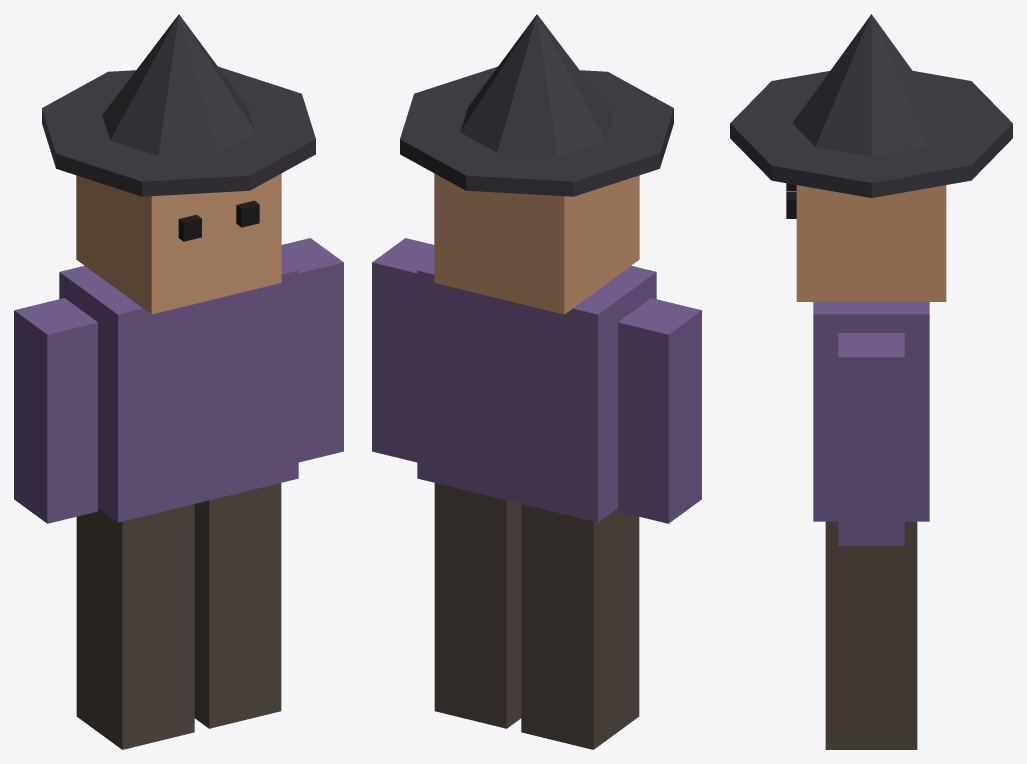
File: surveyor.obj
3 views of the same model, side by side, from view 1: azimuth 30°, elevation 25°; view 2: azimuth 150°, elevation 25°; view 3: azimuth 270°, elevation 25° (orthographic).
Visible parts, largest first — view 1: part_0, part_6, part_1, part_7, part_5, part_8, part_4, part_9, part_3, part_2; view 2: part_0, part_6, part_1, part_7, part_5, part_8, part_4, part_9; view 3: part_7, part_5, part_1, part_9, part_0, part_4.
Part boxes in pixels (x1,y1,x2,y2): part_0: [59, 258, 298, 522]; part_6: [76, 504, 194, 749]; part_1: [76, 173, 281, 314]; part_7: [194, 483, 281, 728]; part_5: [42, 66, 315, 196]; part_8: [14, 298, 97, 523]; part_4: [102, 14, 255, 155]; part_9: [281, 238, 343, 462]; part_3: [236, 200, 259, 227]; part_2: [178, 214, 201, 241]; part_0: [417, 258, 656, 522]; part_6: [521, 504, 639, 749]; part_1: [434, 173, 639, 314]; part_7: [434, 483, 521, 728]; part_5: [400, 66, 673, 196]; part_8: [618, 298, 701, 523]; part_4: [460, 14, 613, 155]; part_9: [372, 238, 434, 462]; part_7: [825, 521, 917, 749]; part_5: [730, 71, 1012, 197]; part_1: [796, 185, 946, 301]; part_9: [838, 333, 904, 545]; part_0: [813, 302, 929, 521]; part_4: [792, 14, 950, 156].
Size of the model in its own units: 0.82 by 1.85 by 0.68.
